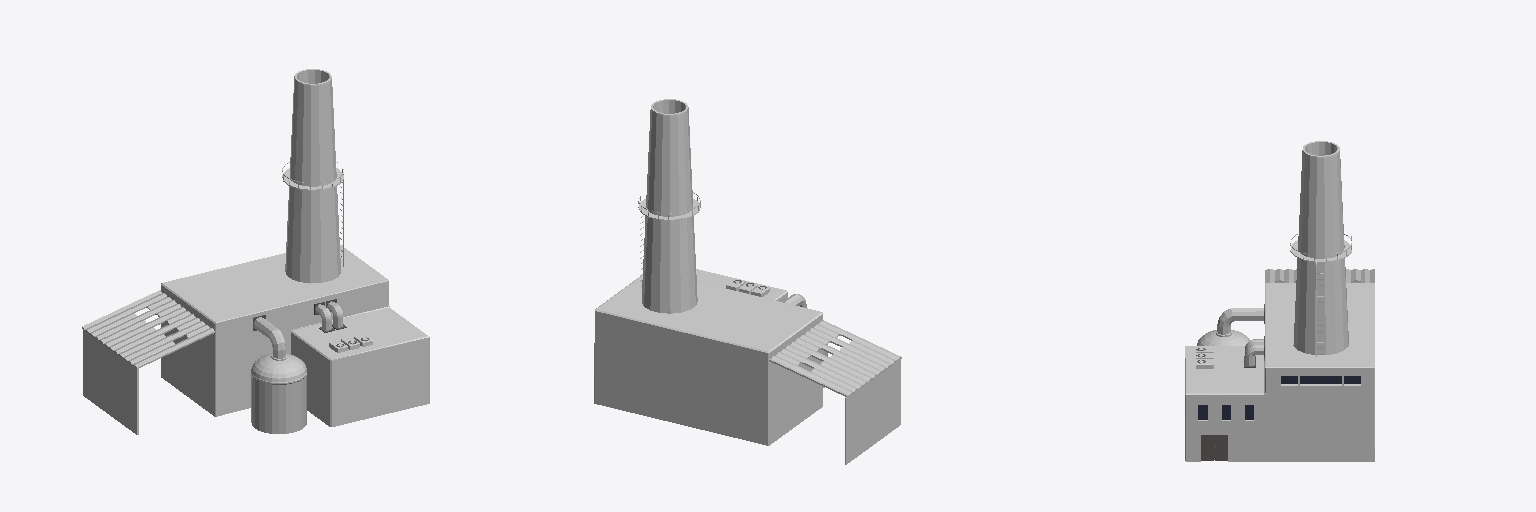
Rendered from refinery.obj.
3 views of the same model, side by side, from view 1: azimuth 30°, elevation 25°; view 2: azimuth 150°, elevation 25°; view 3: azimuth 270°, elevation 25° (orthographic).
Visible parts, largest first — view 1: Refinery; view 2: Refinery; view 3: Refinery.
Part boxes in pixels (x1,y1,x2,y2): Refinery: (82, 69, 429, 434); Refinery: (594, 99, 901, 464); Refinery: (1185, 141, 1374, 461).
Bounding box in the file's own units: 15.24 × 16.71 × 9.9.